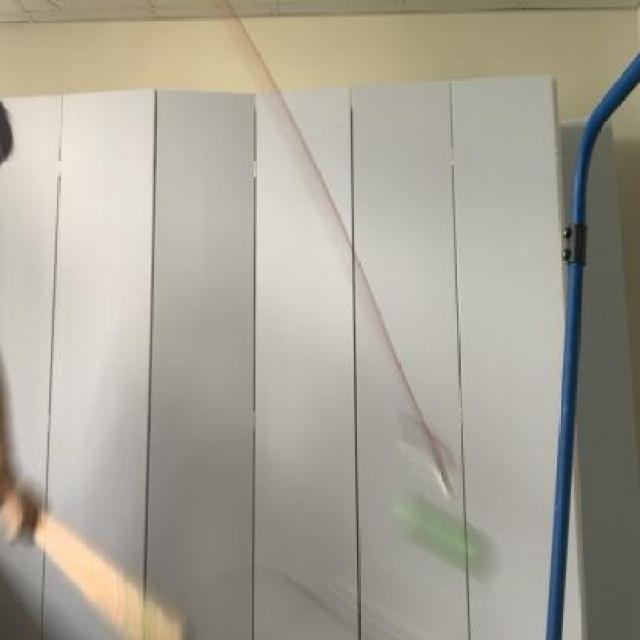baseball: (385, 472, 503, 593)
